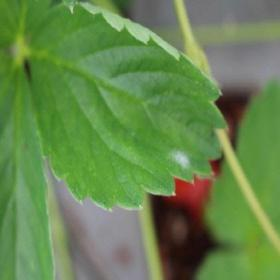Powdery Mildew Leaf: (21, 0, 230, 213)
